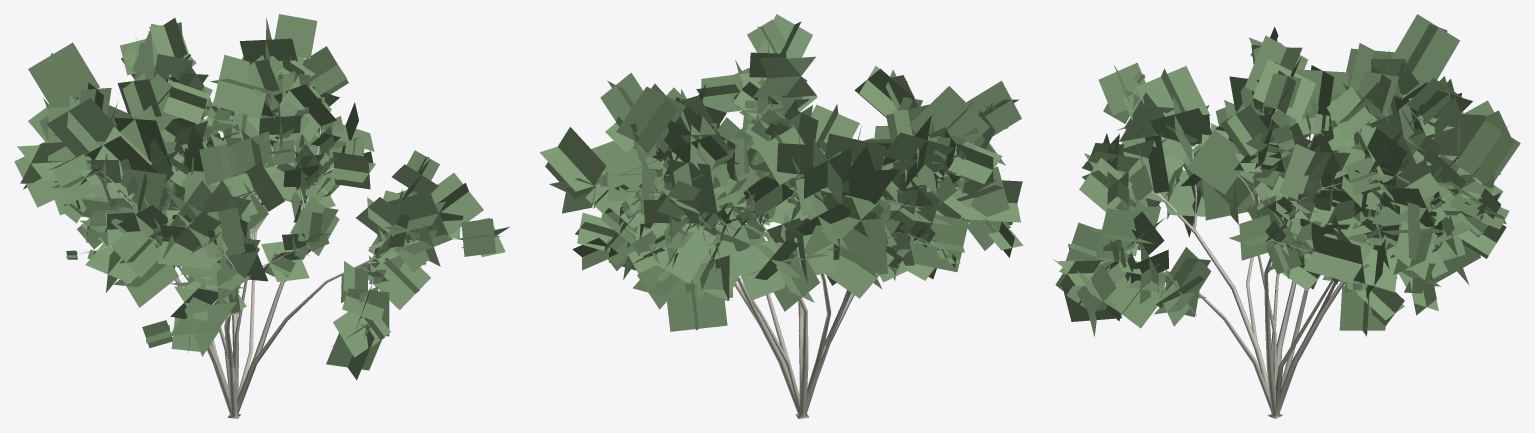
File: bush_b.glb
3 views of the same model, side by side, from view 1: azimuth 30°, elevation 25°; view 2: azimuth 150°, elevation 25°; view 3: azimuth 270°, elevation 25° (orthographic). The views are drawn at different scales.
Parts seen in each view (by area): view 1: leaves, branches; view 2: leaves, branches; view 3: leaves, branches.
Boxes of the visible parts, x1,y1,x2,y2 form: leaves: (14,14,510,380); branches: (79,59,462,418); leaves: (540,14,1023,331); branches: (596,111,997,418); leaves: (1053,14,1520,337); branches: (1092,85,1466,418).
Size of the model in its own units: 32.53 by 28.8 by 33.9.
